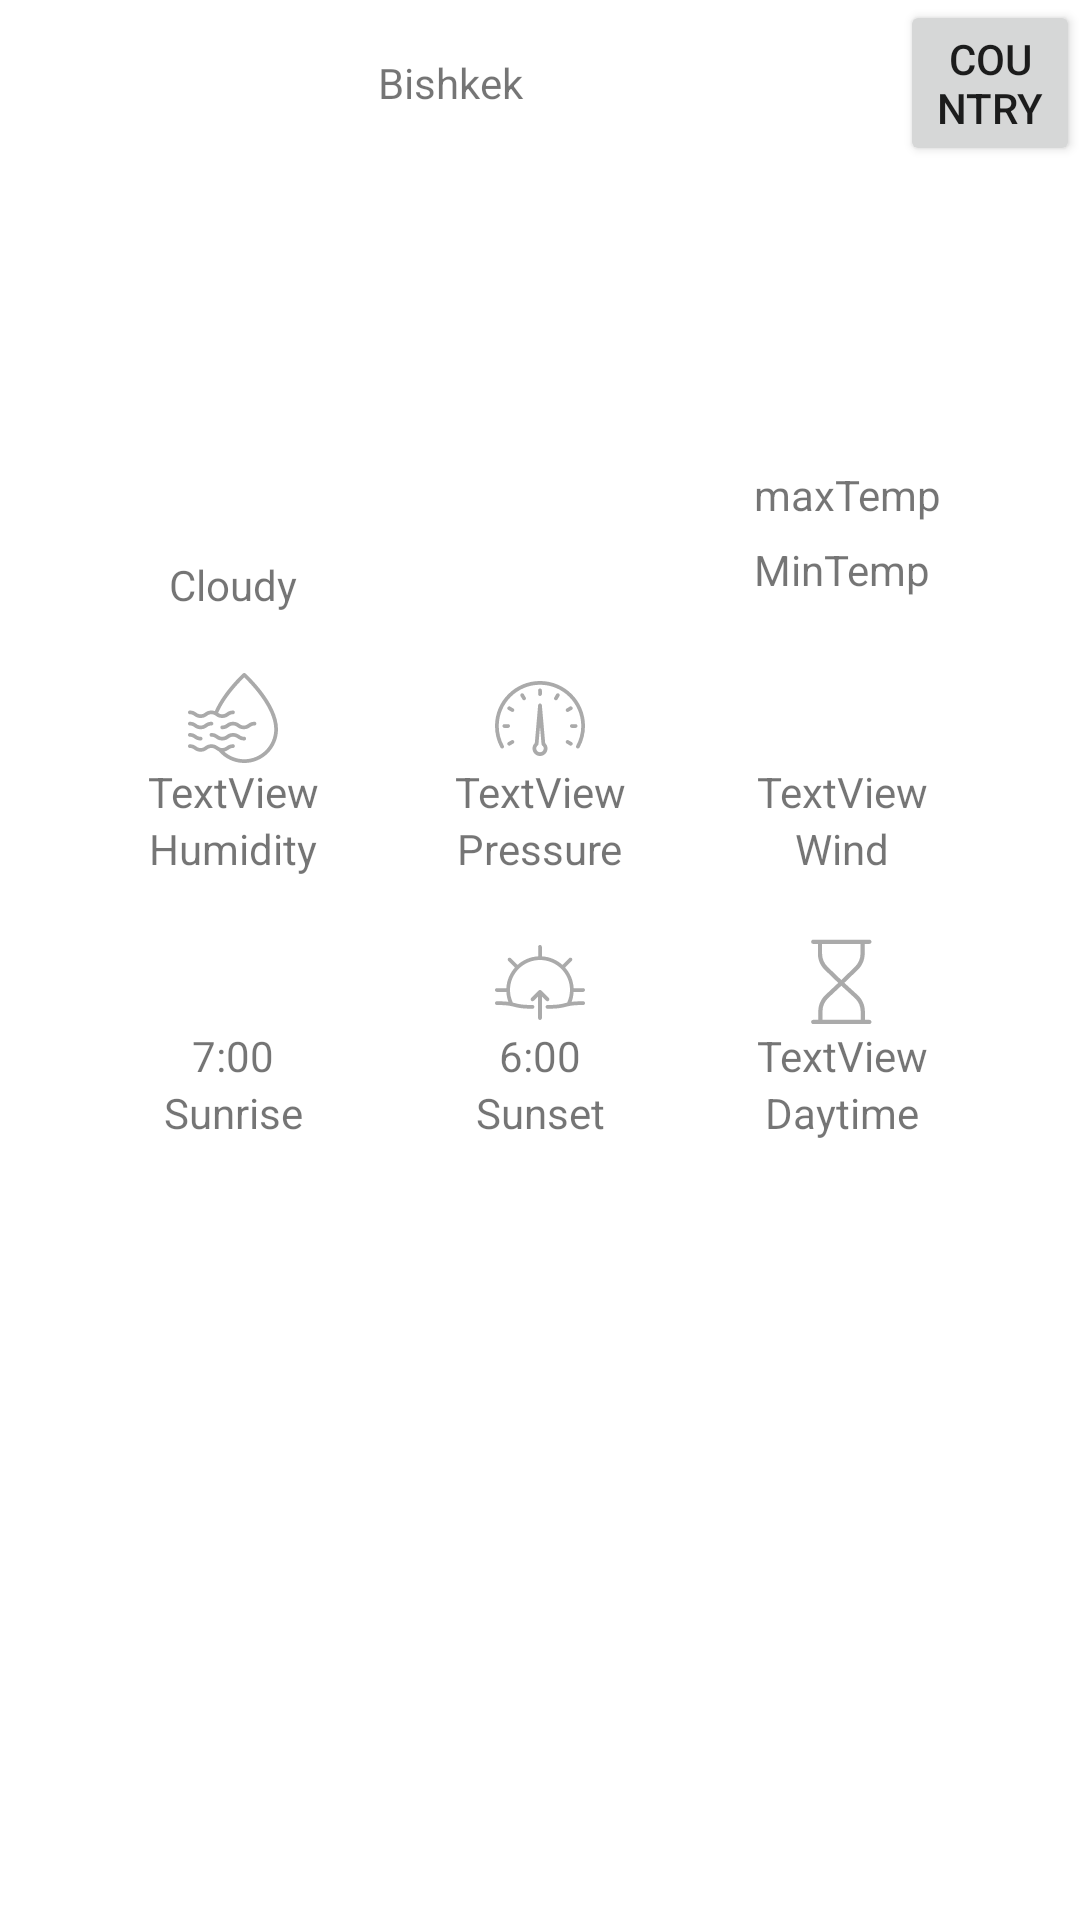

Where icons sit on this 1080x1920 app screen, as bbox=(x1, y1, x2, y2):
sand clock: bbox=(811, 940, 872, 1024)
